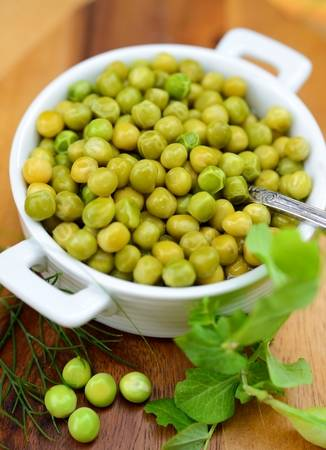boiled peas: (29, 60, 314, 290), (43, 358, 150, 441)
